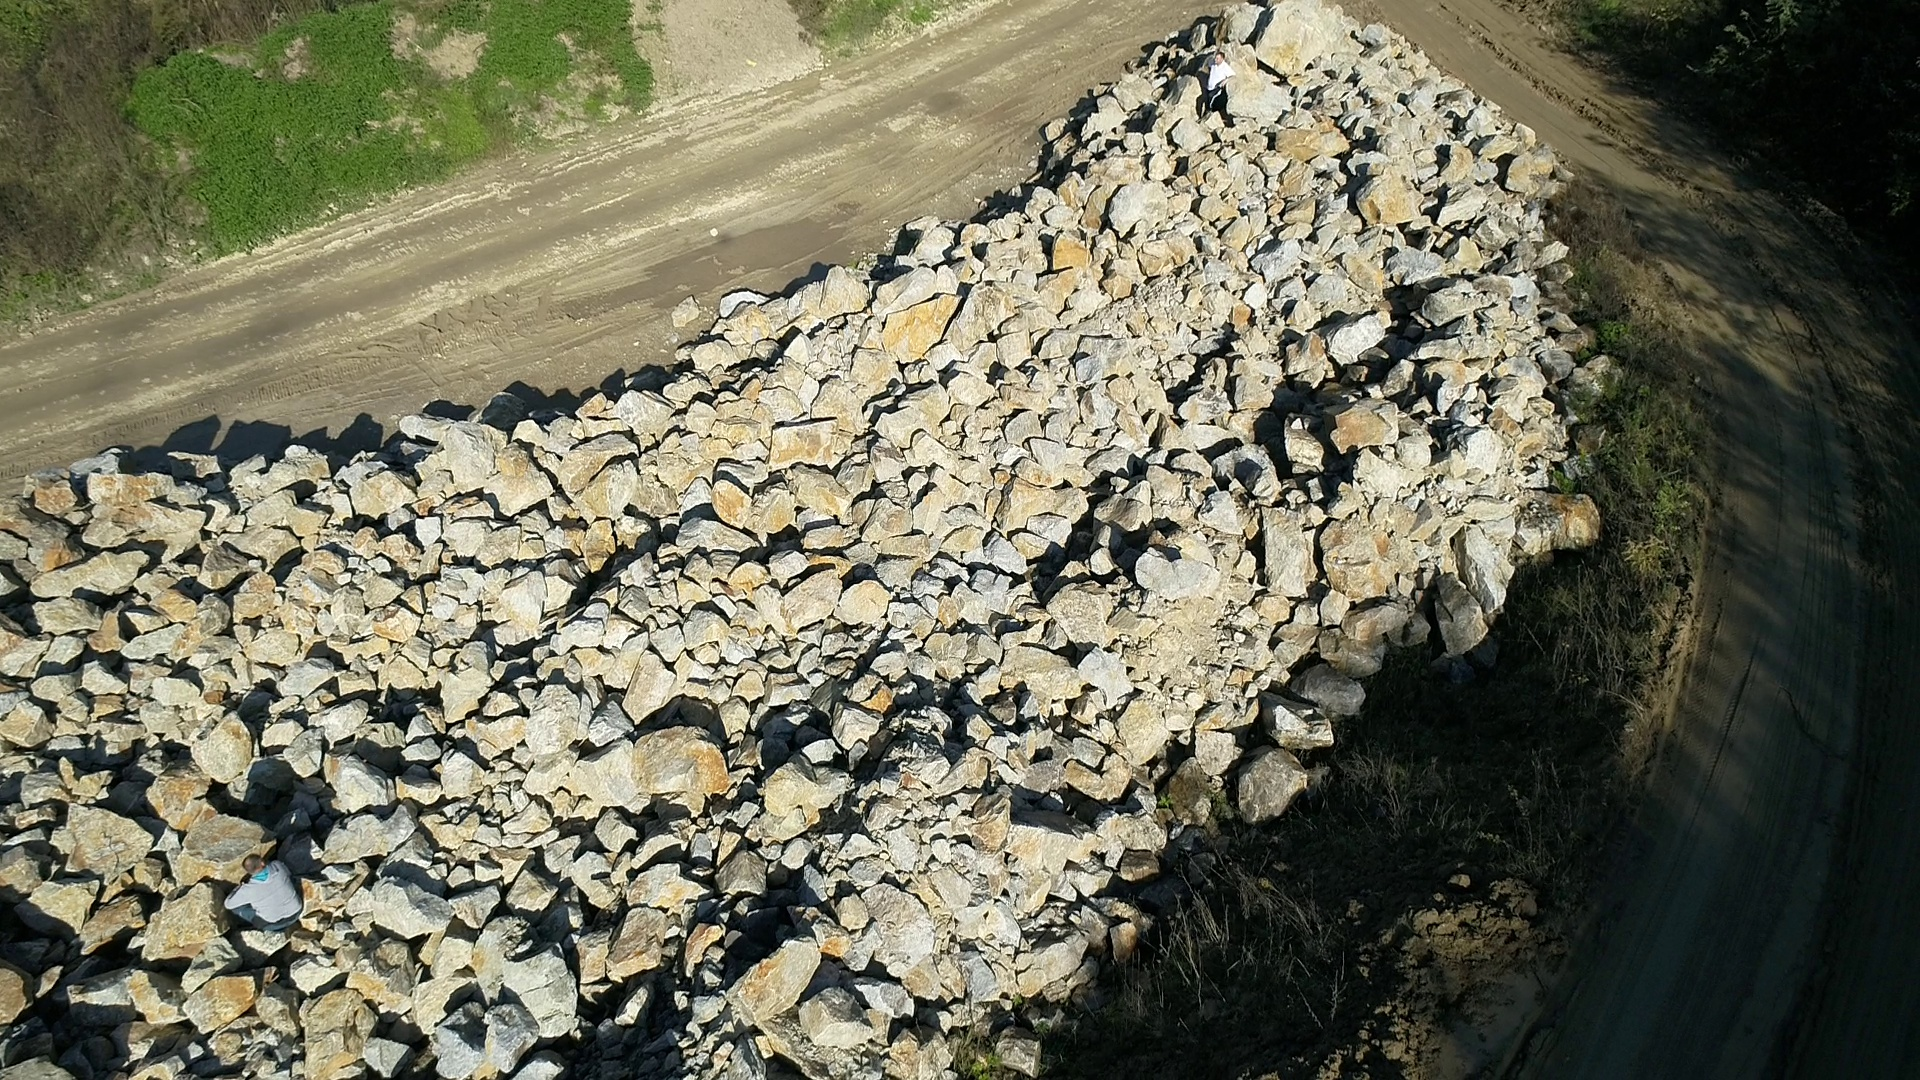person: (223, 853, 303, 930), (1205, 52, 1235, 113)
